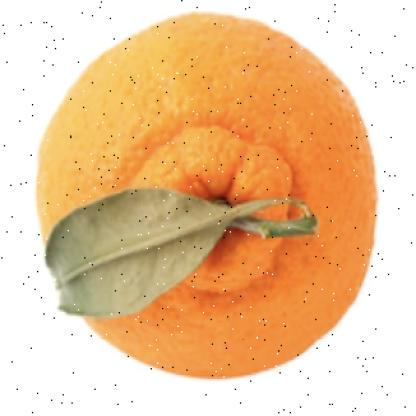fresh: (39, 12, 377, 378)
